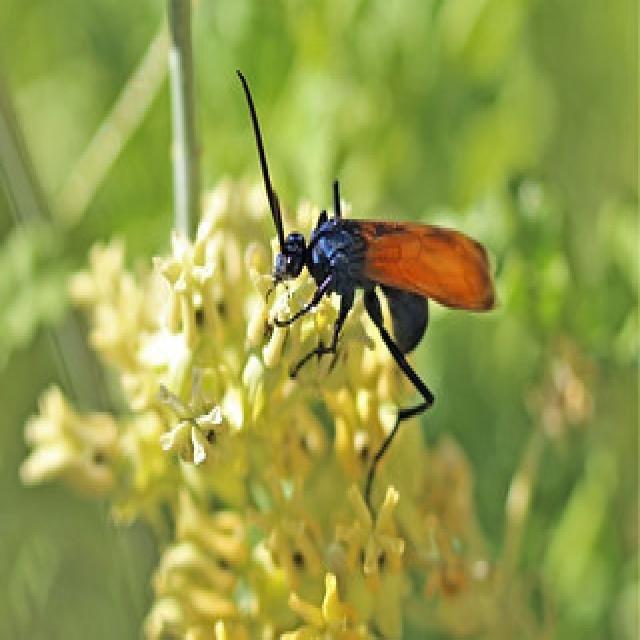Guepe: (216, 59, 520, 491)
